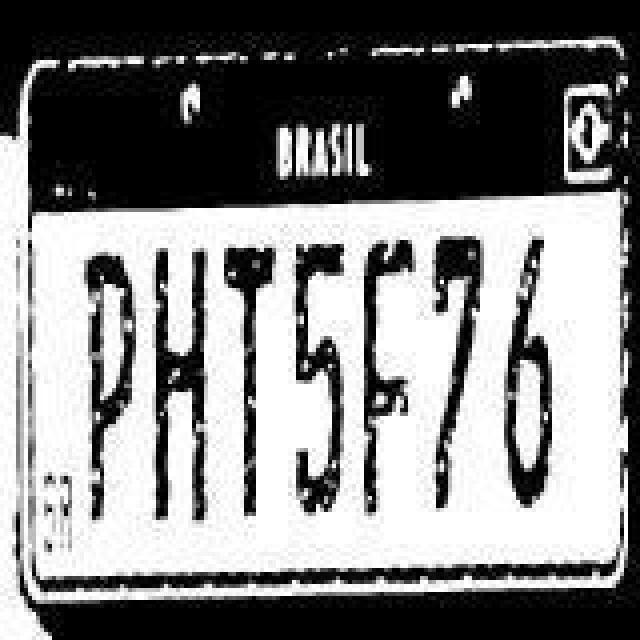5: (290, 222, 350, 530)
6: (502, 222, 570, 514)
7: (428, 222, 500, 514)
F: (354, 224, 430, 520)
H: (144, 230, 216, 538)
P: (74, 240, 134, 544)
T: (218, 224, 286, 528)
